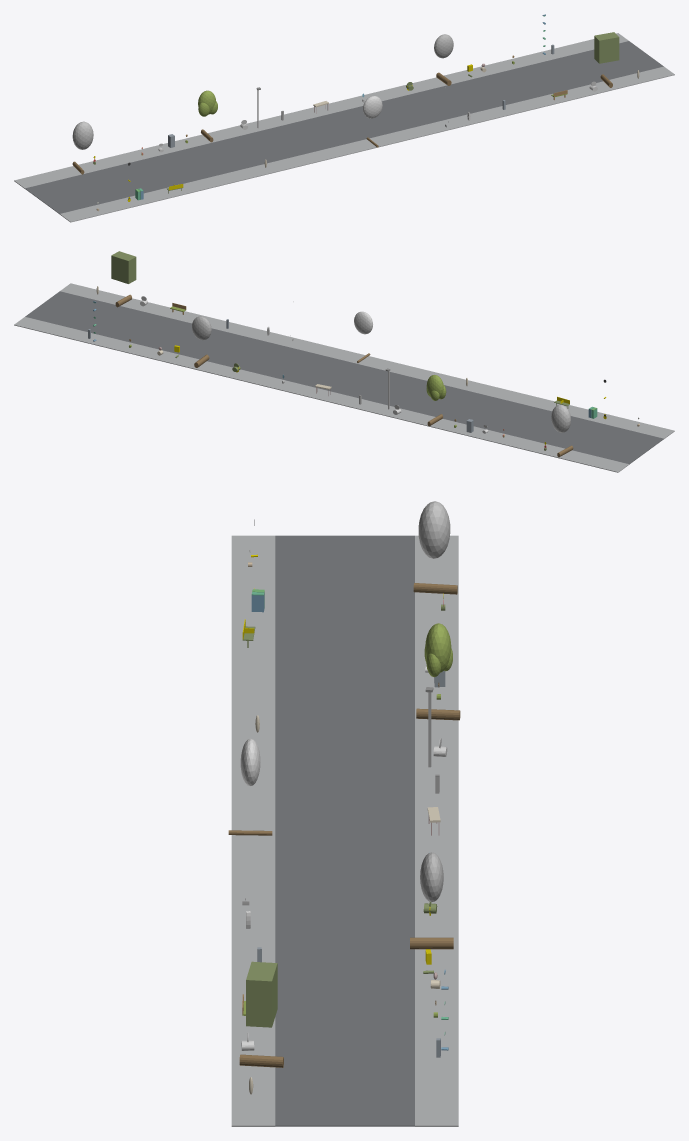
3 views of the same model, one above another, from view 1: azimuth 30°, elevation 25°; view 2: azimuth 150°, elevation 25°; view 3: azimuth 270°, elevation 25° (orthographic). The views are drawn at different scales.
Parts seen in each view (by area): view 1: road_slab, sidewalk_left, sidewalk_right, inst_0016, inst_0012, inst_0013, inst_0015, inst_0014; view 2: road_slab, sidewalk_right, sidewalk_left, inst_0016, inst_0012, inst_0013, inst_0015, inst_0014; view 3: road_slab, sidewalk_left, sidewalk_right, inst_0016, inst_0012, inst_0013, inst_0015, inst_0014.
Boxes of the visible parts, x1,y1,x2,y2 form: road_slab: (25, 41, 663, 213); sidewalk_left: (59, 66, 674, 222); sidewalk_right: (14, 33, 628, 188); inst_0016: (594, 32, 619, 87); inst_0012: (72, 121, 93, 174); inst_0013: (198, 90, 217, 142); inst_0015: (434, 34, 453, 85); inst_0014: (363, 96, 382, 147); road_slab: (25, 291, 663, 464); sidewalk_right: (14, 317, 629, 472); sidewalk_left: (60, 283, 674, 438); inst_0016: (111, 251, 136, 307); inst_0012: (551, 404, 573, 457); inst_0013: (426, 375, 446, 426); inst_0015: (192, 316, 211, 367); inst_0014: (354, 311, 372, 362); road_slab: (275, 535, 414, 1126); sidewalk_left: (231, 535, 275, 1126); sidewalk_right: (415, 535, 458, 1126); inst_0016: (239, 961, 283, 1067); inst_0012: (413, 501, 457, 594); inst_0013: (416, 623, 460, 720); inst_0015: (410, 852, 453, 949); inst_0014: (228, 738, 272, 835).
Size of the model in its own units: 80 by 6.08 by 13.28.
